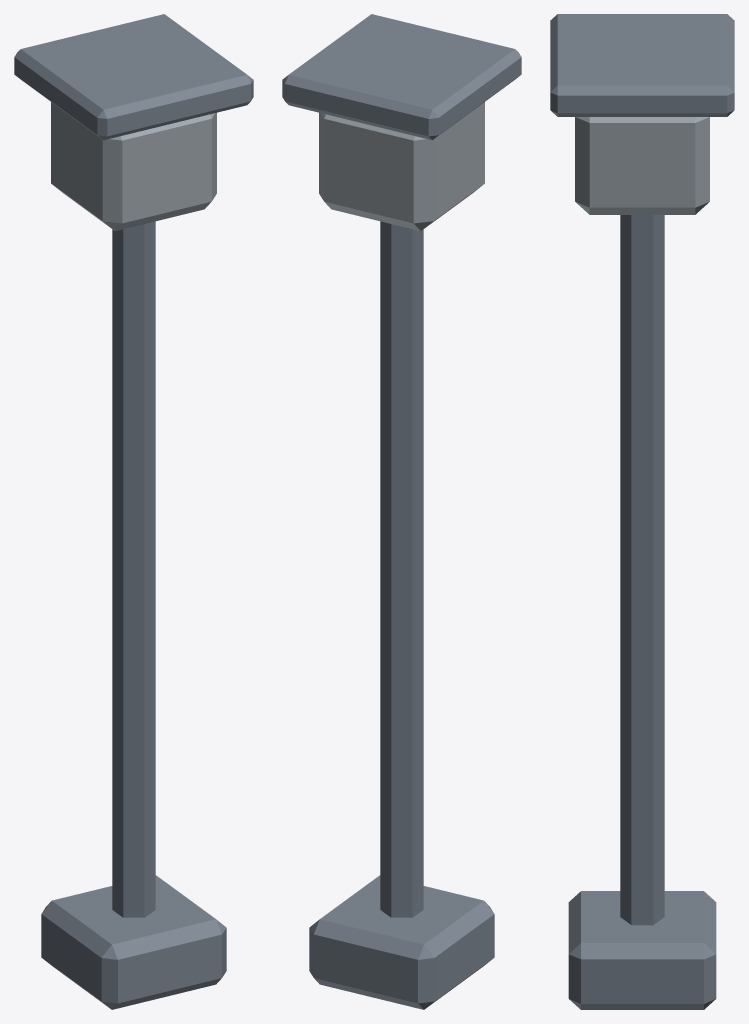
File: lamp.fbx
3 views of the same model, side by side, from view 1: azimuth 30°, elevation 25°; view 2: azimuth 150°, elevation 25°; view 3: azimuth 270°, elevation 25° (orthographic). The views are drawn at different scales.
Visible parts, largest first — view 1: lamp; view 2: lamp; view 3: lamp.
Part boxes in pixels (left/top/right/bottom): lamp: left=14, top=14, right=253, bottom=1009; lamp: left=282, top=14, right=521, bottom=1009; lamp: left=550, top=14, right=734, bottom=1009.
Bounding box in the file's own units: 0.75 × 4.19 × 0.75.
